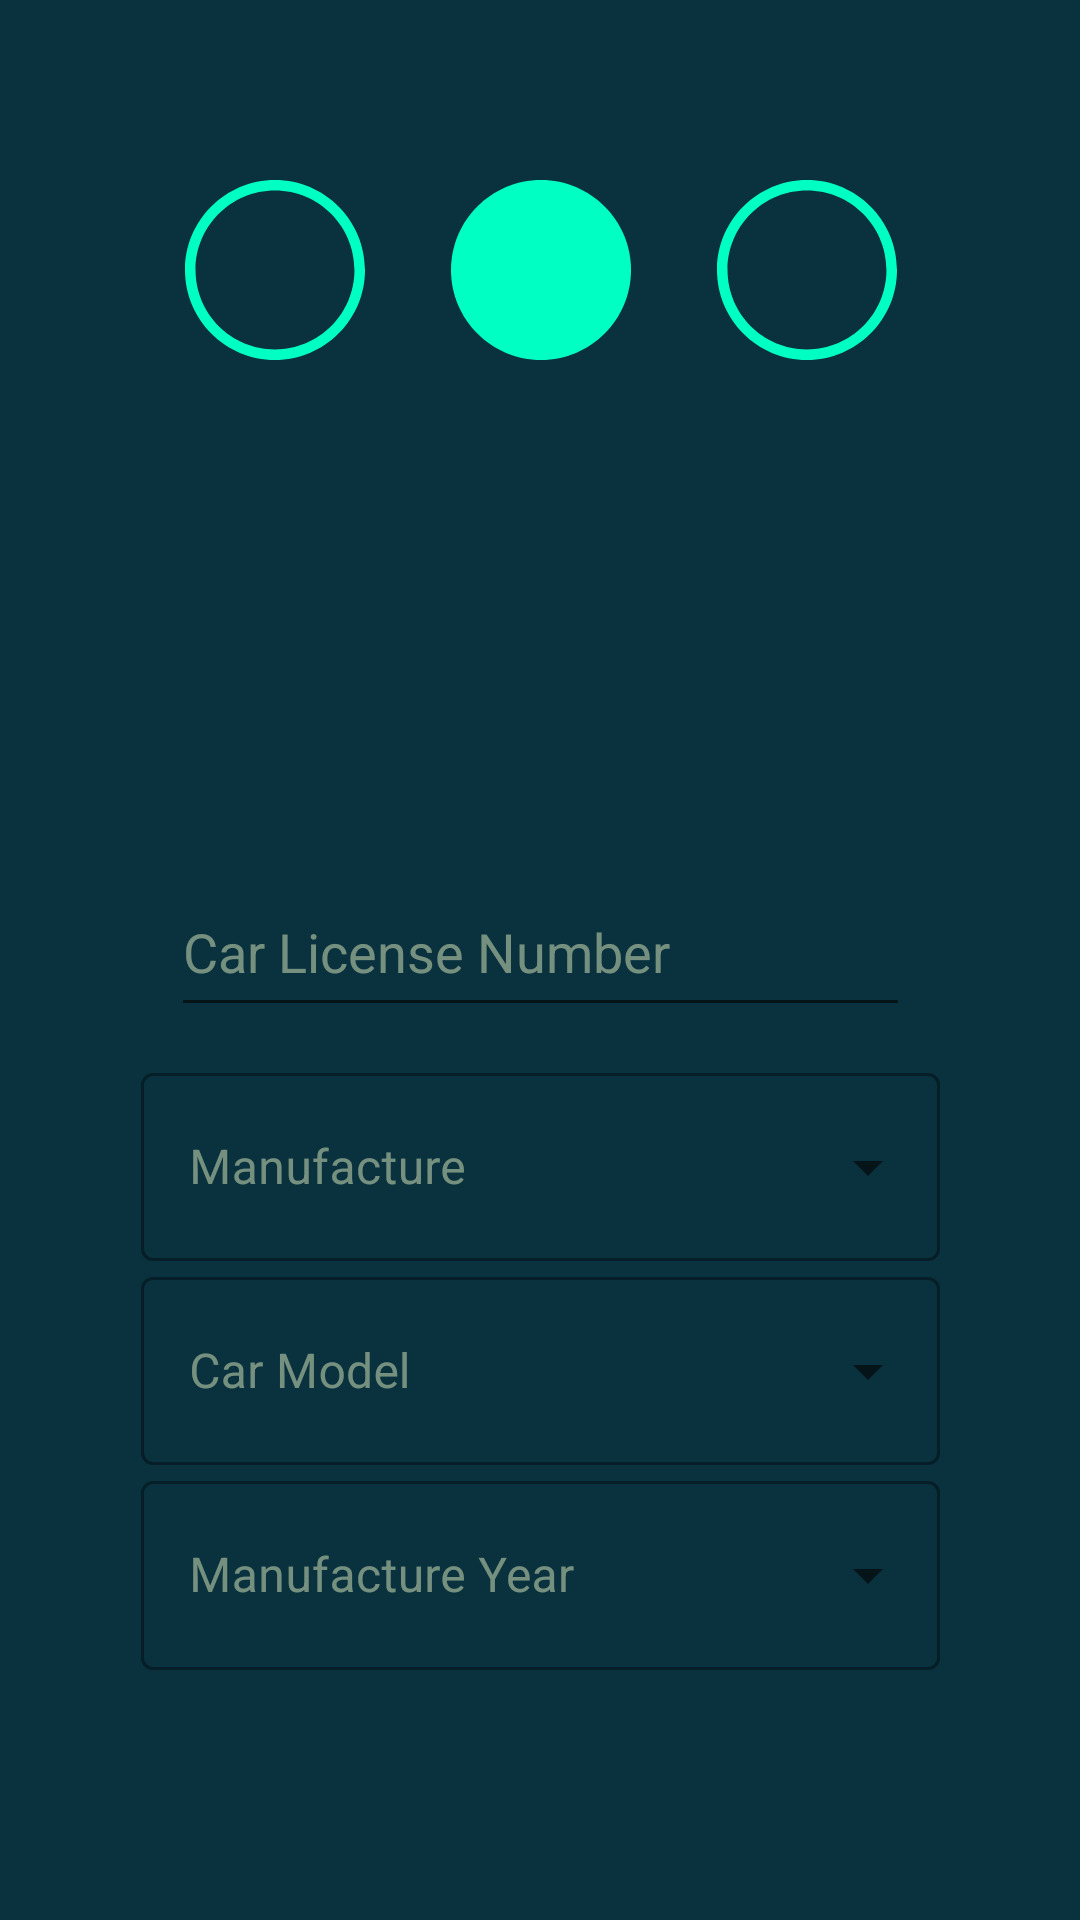

Where icons sit on this 1080px x 1920px app screen, as (x1, y1, x2, y2):
step done: (451, 180, 631, 360)
step undone: (185, 180, 365, 360), (717, 180, 897, 360)
